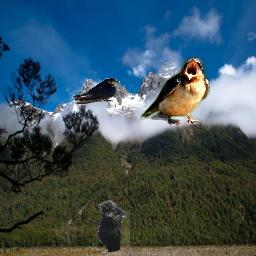Crow: (96, 200, 130, 254)
Swallow: (140, 57, 210, 125), (73, 78, 120, 104)
